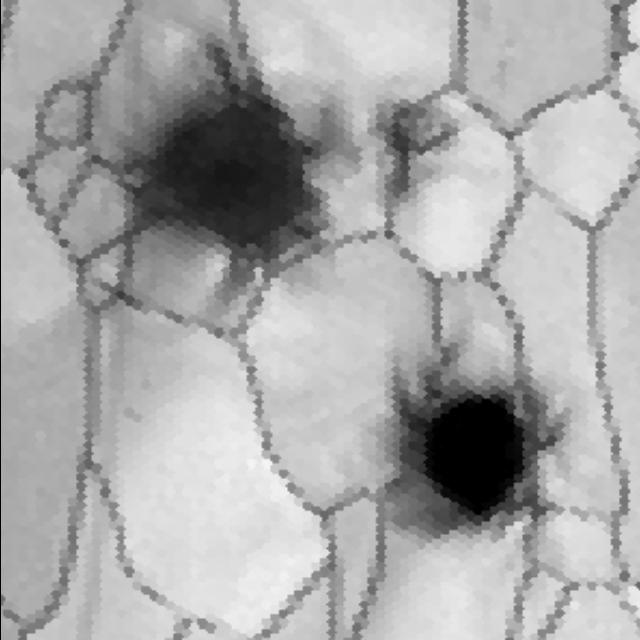good_void: (121, 34, 356, 327), (378, 331, 557, 546), (365, 79, 459, 202), (115, 400, 145, 426)
